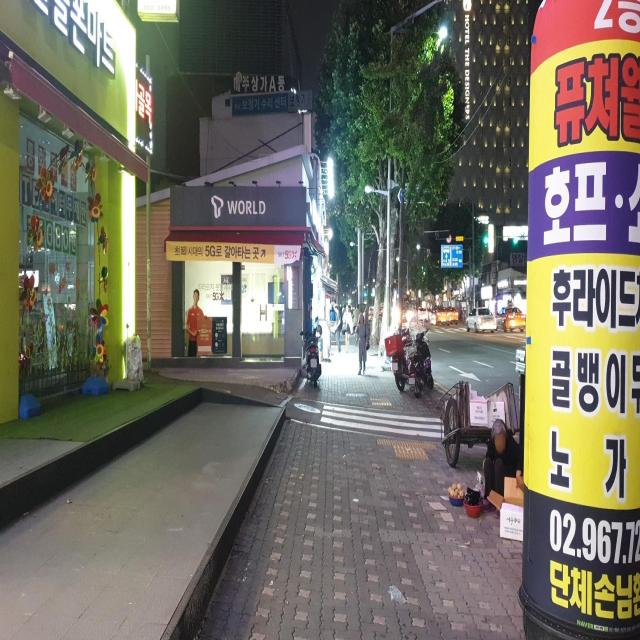횡단보도: (320, 404, 445, 440)
